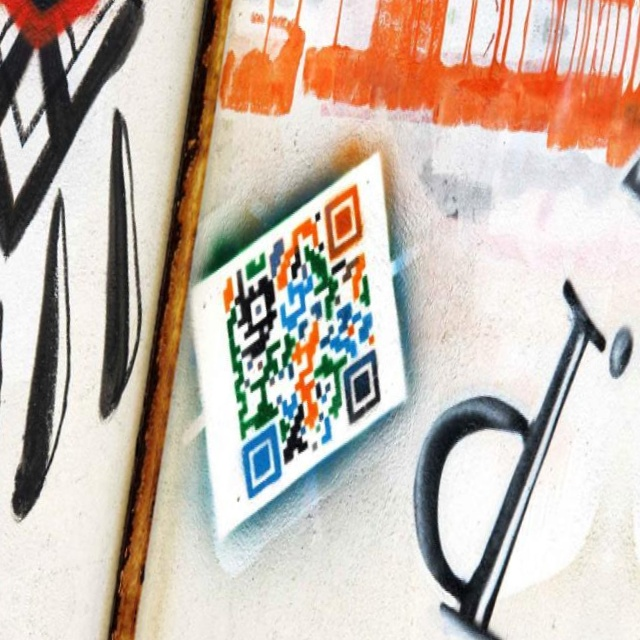qr-code: (193, 169, 410, 517)
